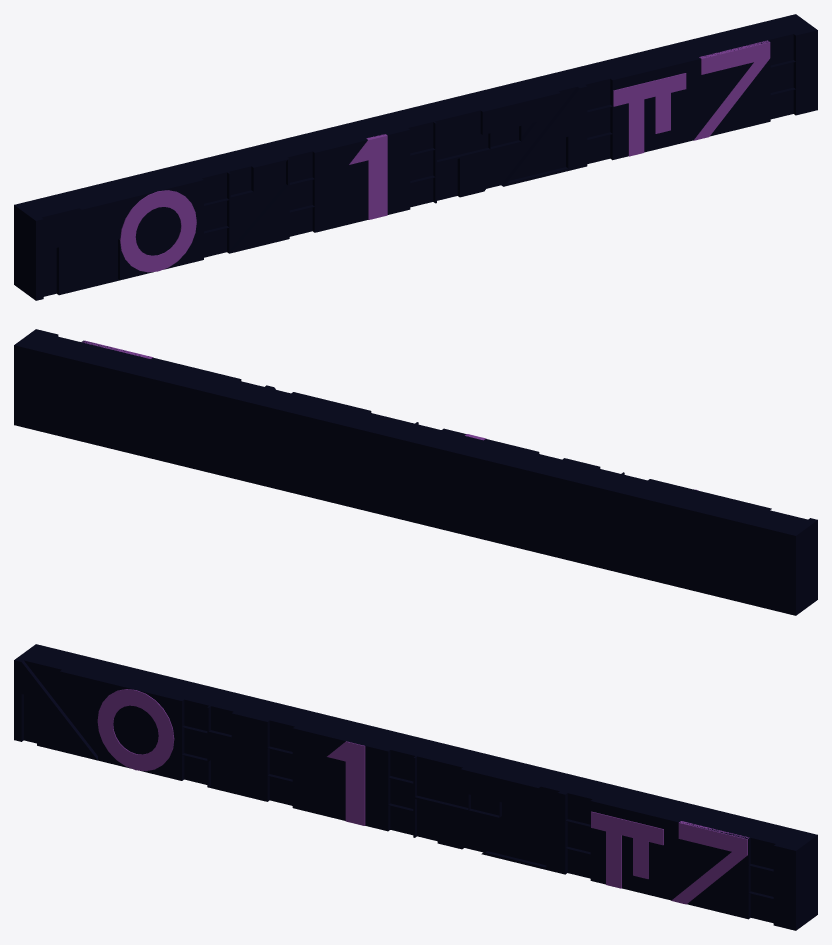
Rendered from Wall4.obj.
3 views of the same model, one above another, from view 1: azimuth 30°, elevation 25°; view 2: azimuth 150°, elevation 25°; view 3: azimuth 330°, elevation 25° (orthographic).
Parts seen in each view (by area): view 1: obj_4, obj_0, obj_2, obj_3, obj_1; view 2: obj_4; view 3: obj_4, obj_0, obj_2, obj_3, obj_1.
Part boxes in pixels (box(x1,y1,x2,y2)): obj_4: box(14, 14, 817, 300); obj_0: box(120, 190, 196, 272); obj_2: box(613, 73, 686, 156); obj_3: box(693, 40, 770, 140); obj_1: box(349, 134, 387, 219); obj_4: box(14, 329, 817, 615); obj_4: box(14, 644, 817, 930); obj_0: box(97, 689, 174, 771); obj_2: box(591, 811, 663, 888); obj_3: box(671, 821, 749, 904); obj_1: box(327, 741, 365, 825).
Size of the model in its own units: 1024 by 100 by 51.
